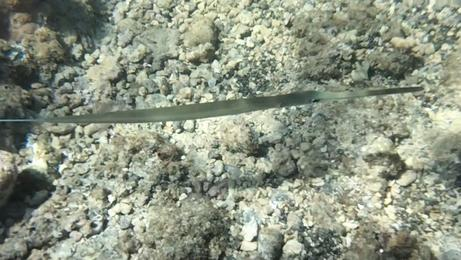Fistularia commersonii: (20, 72, 452, 149)
